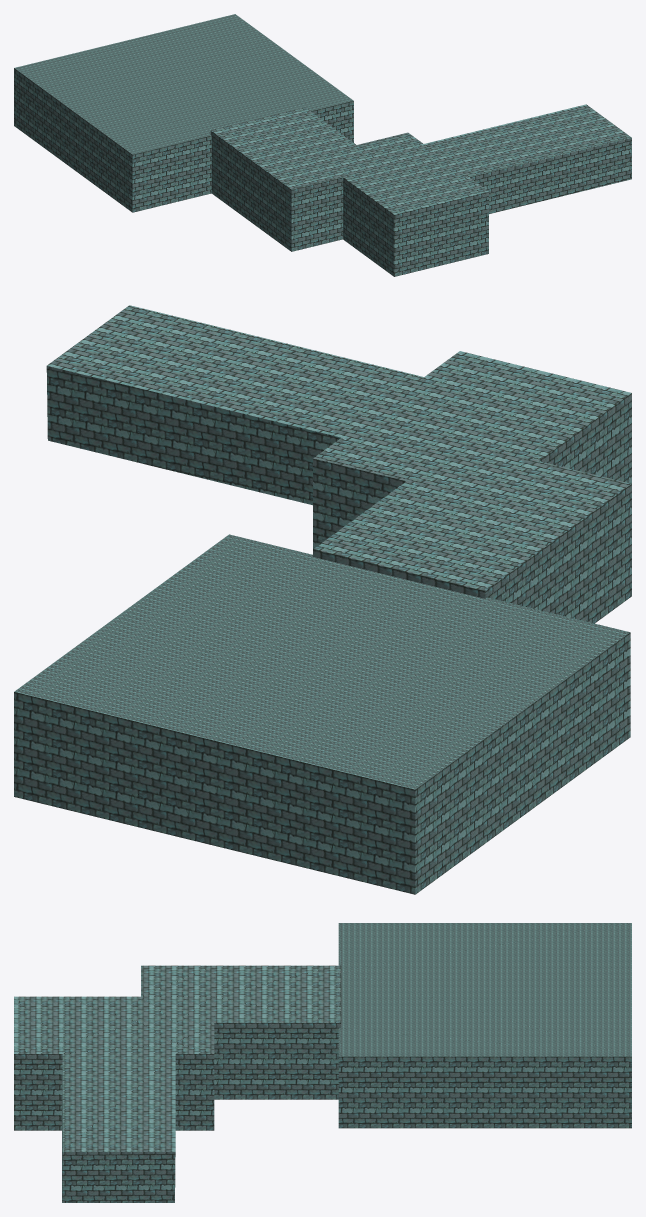
Rendered from level01_01.fbx.
3 renders of one model, top to bottom at view 1: azimuth 30°, elevation 25°; view 2: azimuth 150°, elevation 25°; view 3: azimuth 270°, elevation 25°, orthographic. The views are drawn at different scales.
Visible parts, largest first — view 1: ruinWall1 (1), Wall (1); view 2: ruinWall1 (1), Wall (1); view 3: ruinWall1 (1), Wall (1).
Part boxes in pixels (x1,y1,x2,y2): ruinWall1 (1): (14, 68, 631, 276); Wall (1): (14, 14, 353, 154); ruinWall1 (1): (14, 305, 631, 894); Wall (1): (14, 534, 629, 789); ruinWall1 (1): (14, 965, 631, 1202); Wall (1): (338, 923, 631, 1056).
Size of the model in its own units: 49.06 by 7.5 by 54.75.
